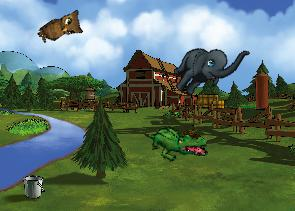crocodile: (144, 120, 209, 166)
elephant: (166, 23, 250, 112)
owl: (35, 5, 89, 54)
